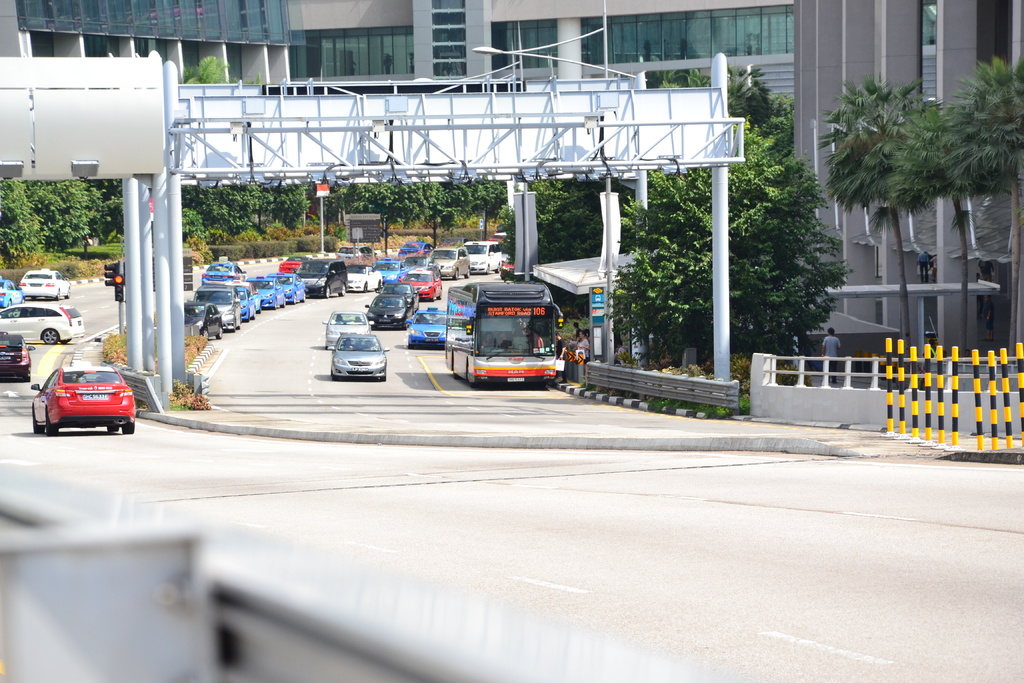Bus: (444, 276, 561, 387)
